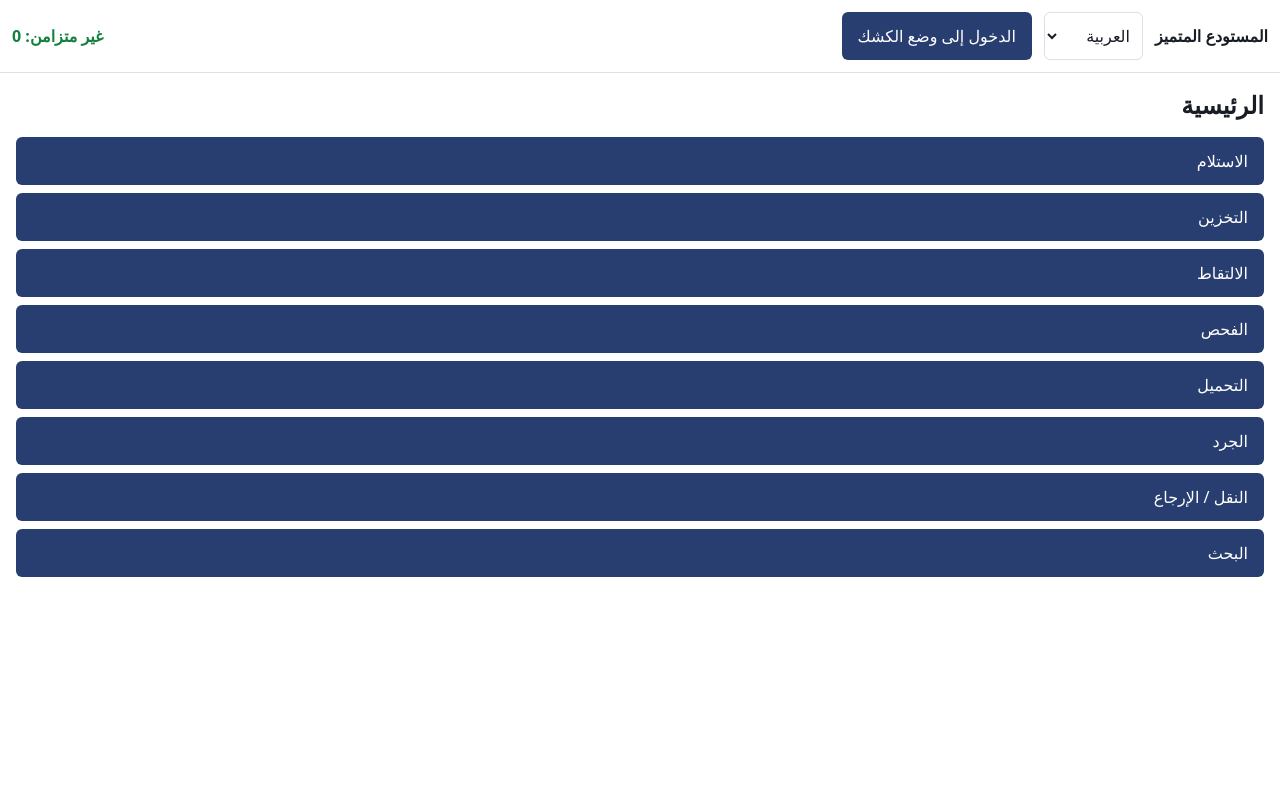
Test case: PDA shell routing — nine D4 screens › locale switching via the shell's own selector › switching to "en" updates dir, lang, and the rendered screen title
Expected: the heading "الرئيسية" is shown, [1181,88,1264,121]
Select "الإنجليزية" in the dropdown with test id "locale-select" at (1093, 36), box [1044,12,1143,60]
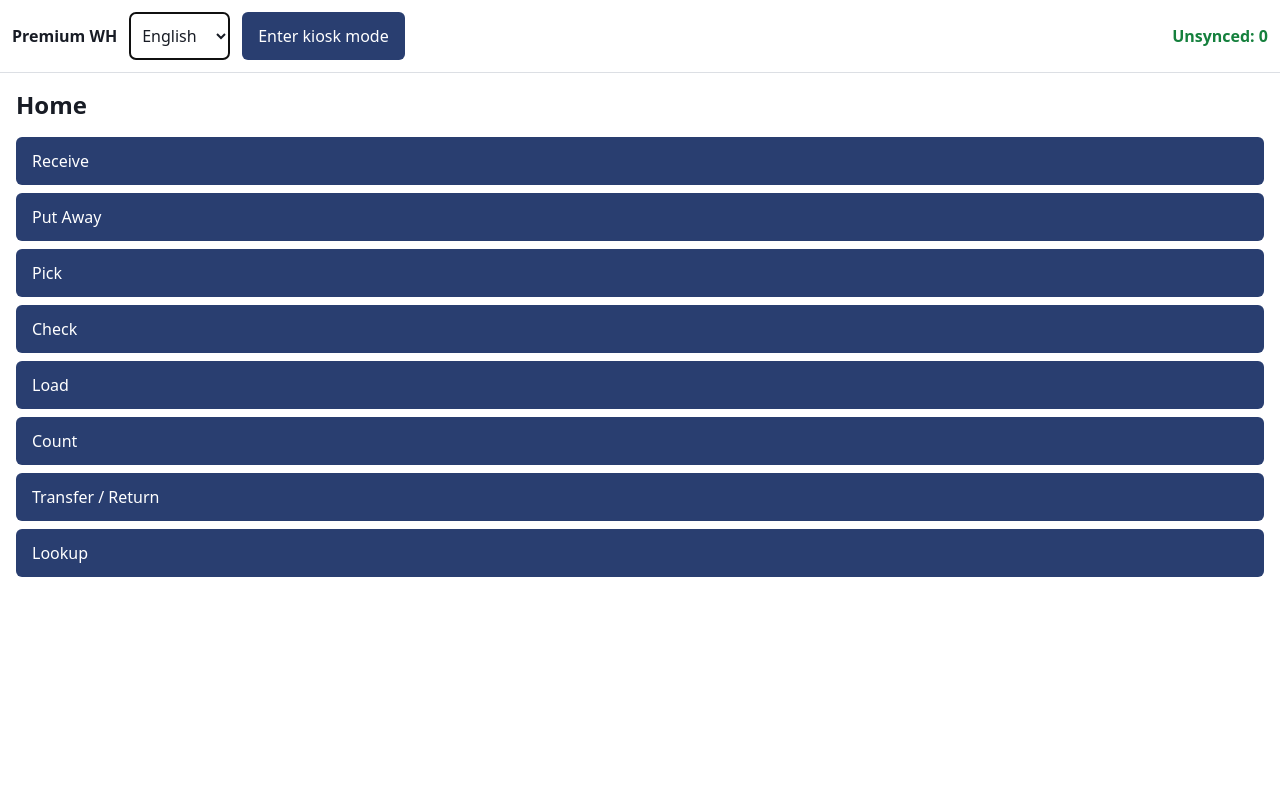
Expected: the heading "Home" is shown, [16,88,87,121]
